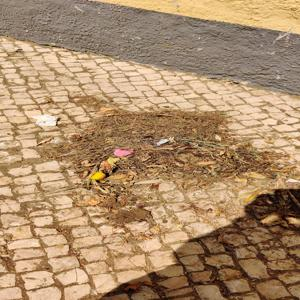plastic: (35, 111, 60, 133), (113, 144, 134, 164)
